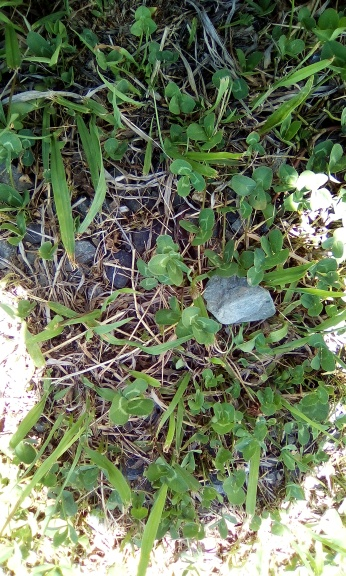4leaf: (147, 233, 192, 288)
